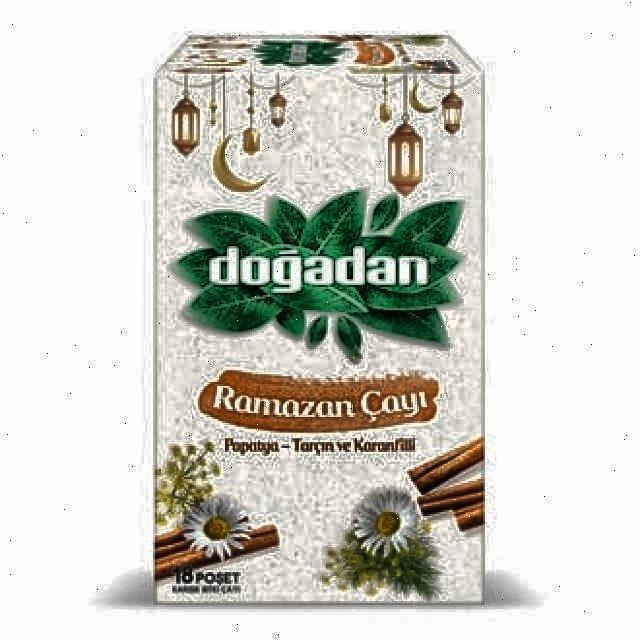cardboard: (148, 32, 487, 610)
